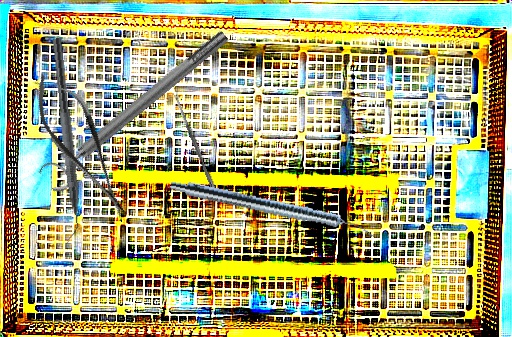Chopper: (37, 37, 88, 247)
Fixation Ring: (35, 22, 238, 197)
Handpiece: (168, 177, 376, 240)
Micro Scissor: (20, 62, 143, 229)
Surgical Spoon: (172, 90, 220, 199)
